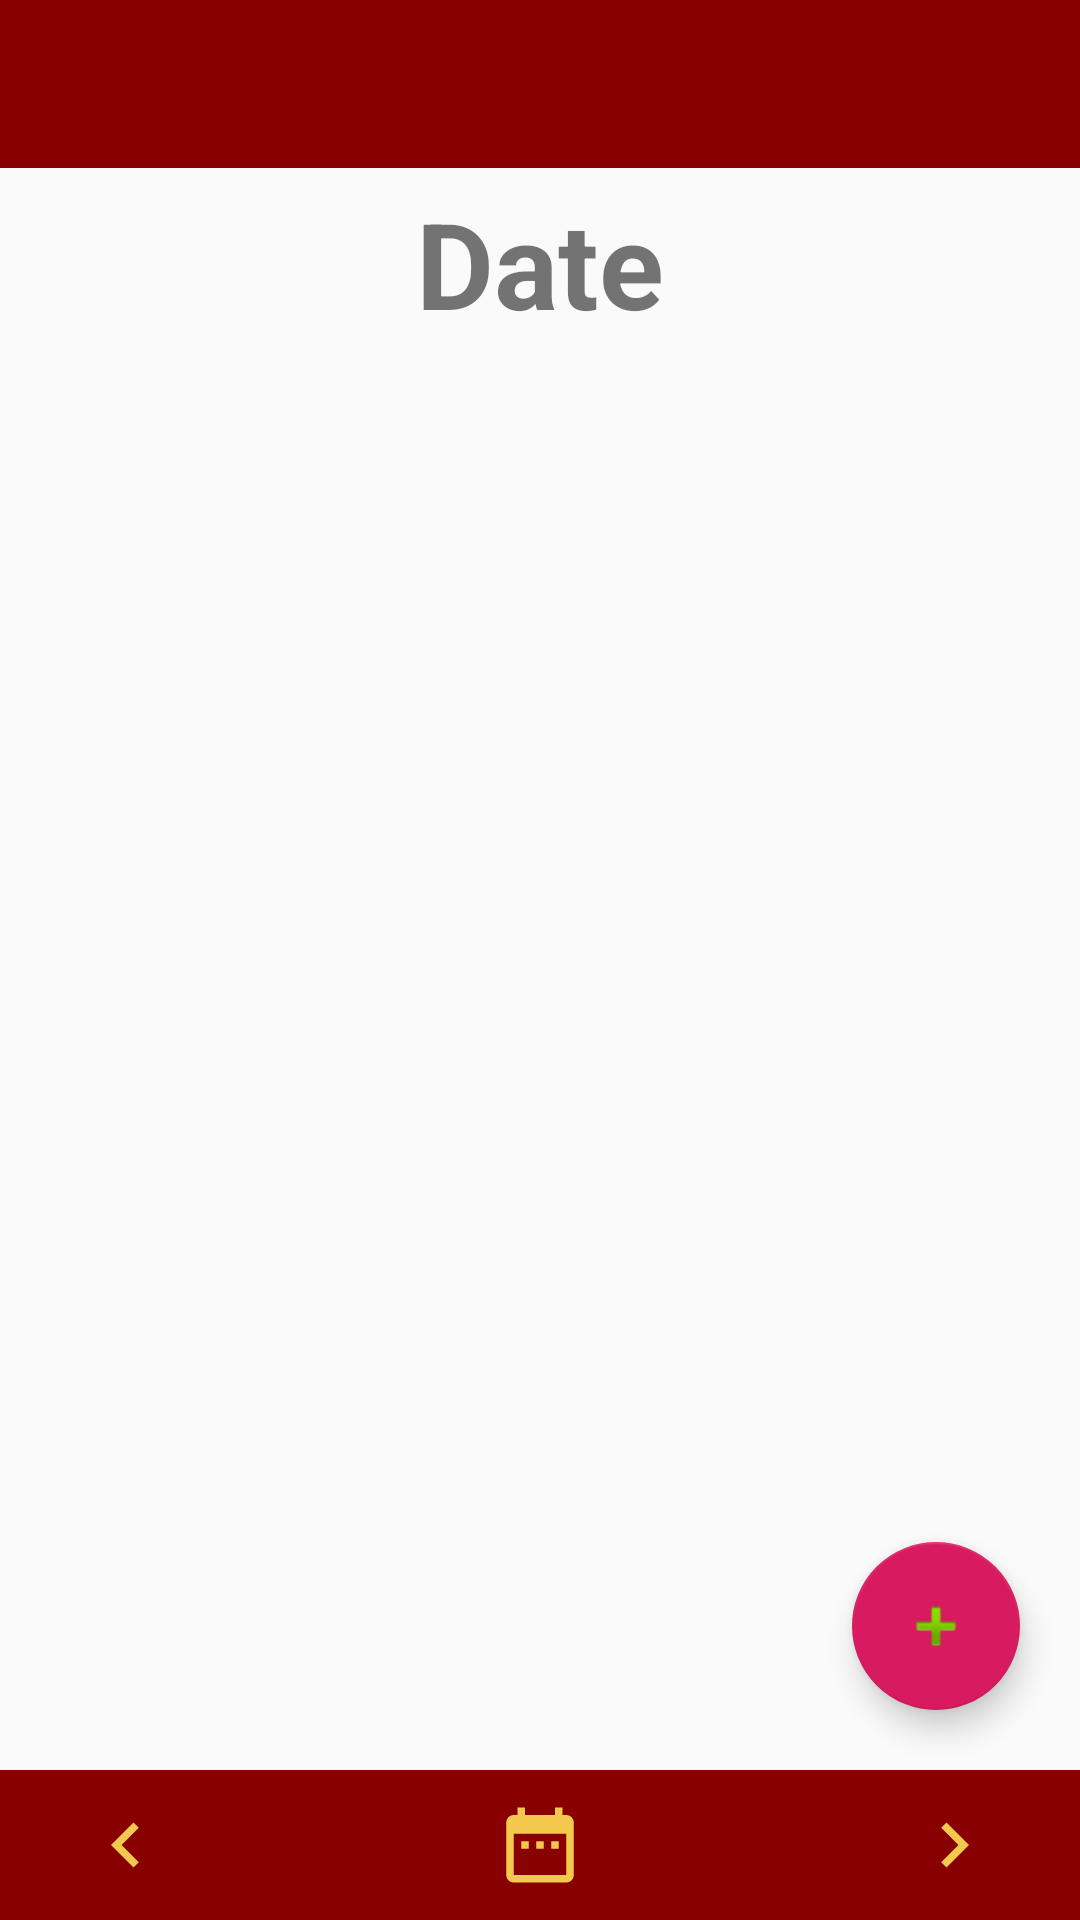

Icon click points for this 1080*1920 phone screenshot, format (x=x, y=y):
add: (x=936, y=1626)
date: (x=540, y=1845)
leftbutton: (x=125, y=1845)
rightbutton: (x=955, y=1845)
